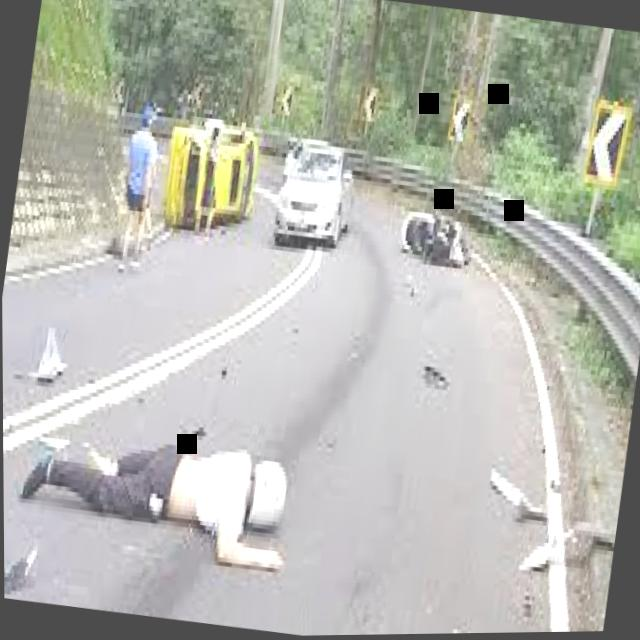Fall-Detected: (2, 376, 302, 577)
